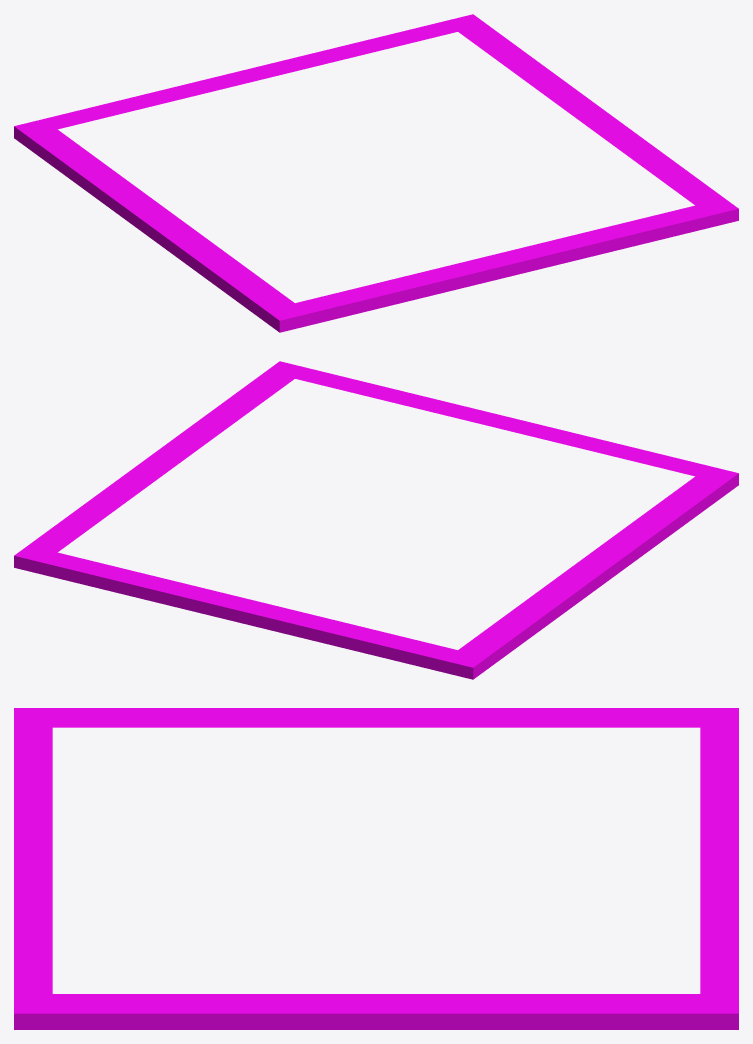
Rendered from highlighter.fbx.
The picture shows the model from 3 angles, top to bottom: view 1: azimuth 30°, elevation 25°; view 2: azimuth 150°, elevation 25°; view 3: azimuth 270°, elevation 25°; orthographic projection. The views are drawn at different scales.
Parts seen in each view (by area): view 1: Highlighter; view 2: Highlighter; view 3: Highlighter.
Part boxes in pixels (x1=…): Highlighter: x1=14, y1=14, x2=738, y2=332; Highlighter: x1=14, y1=361, x2=738, y2=679; Highlighter: x1=14, y1=708, x2=738, y2=1029.
Size of the model in its own units: 1197 by 29.88 by 1200.
